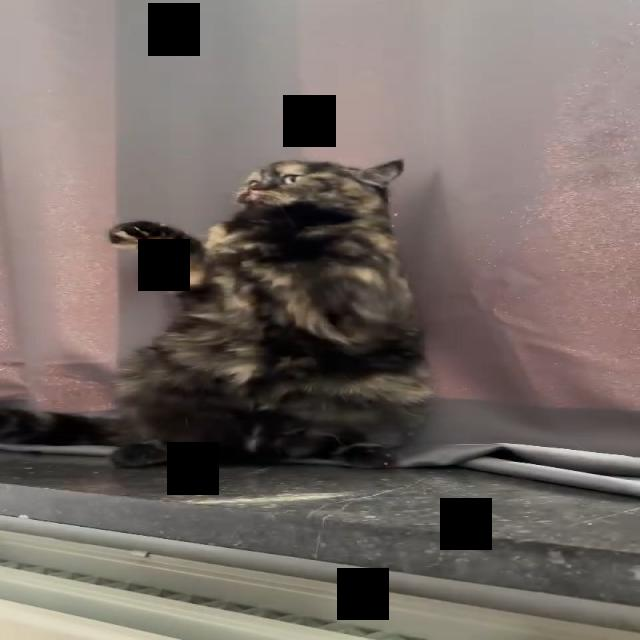authorized: (1, 157, 435, 469)
